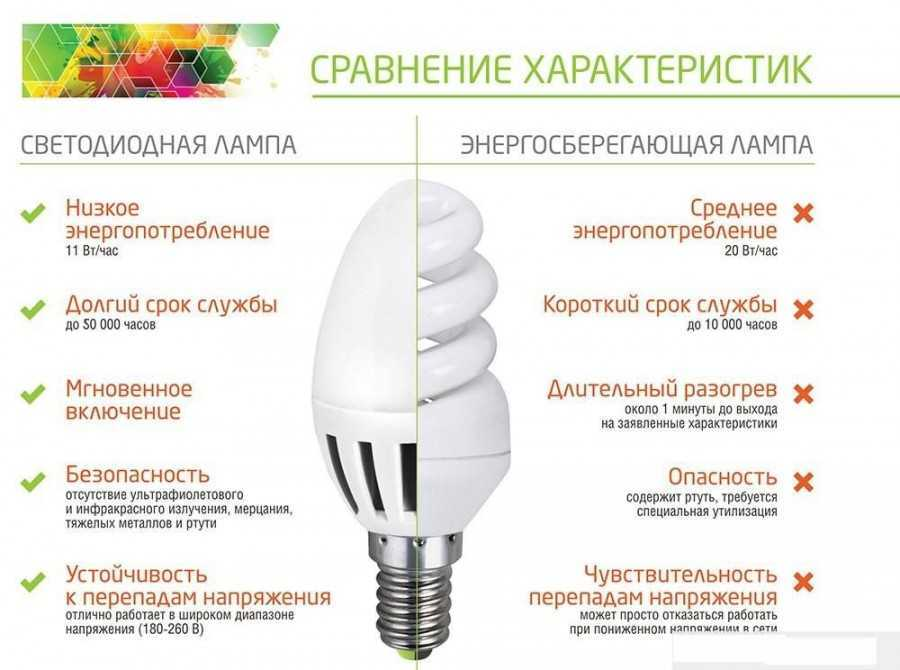Light_bulb: (304, 170, 516, 660)
